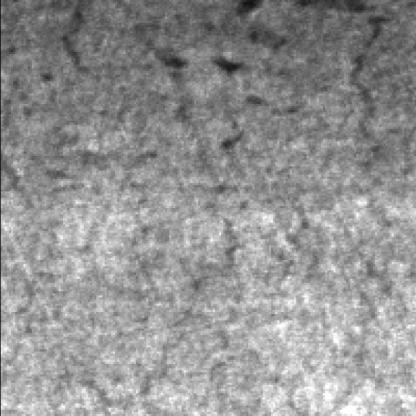crazing: (19, 220, 251, 410), (282, 2, 404, 331), (58, 19, 318, 131)
